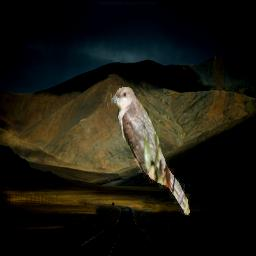Cuckoo: (111, 86, 191, 216)
